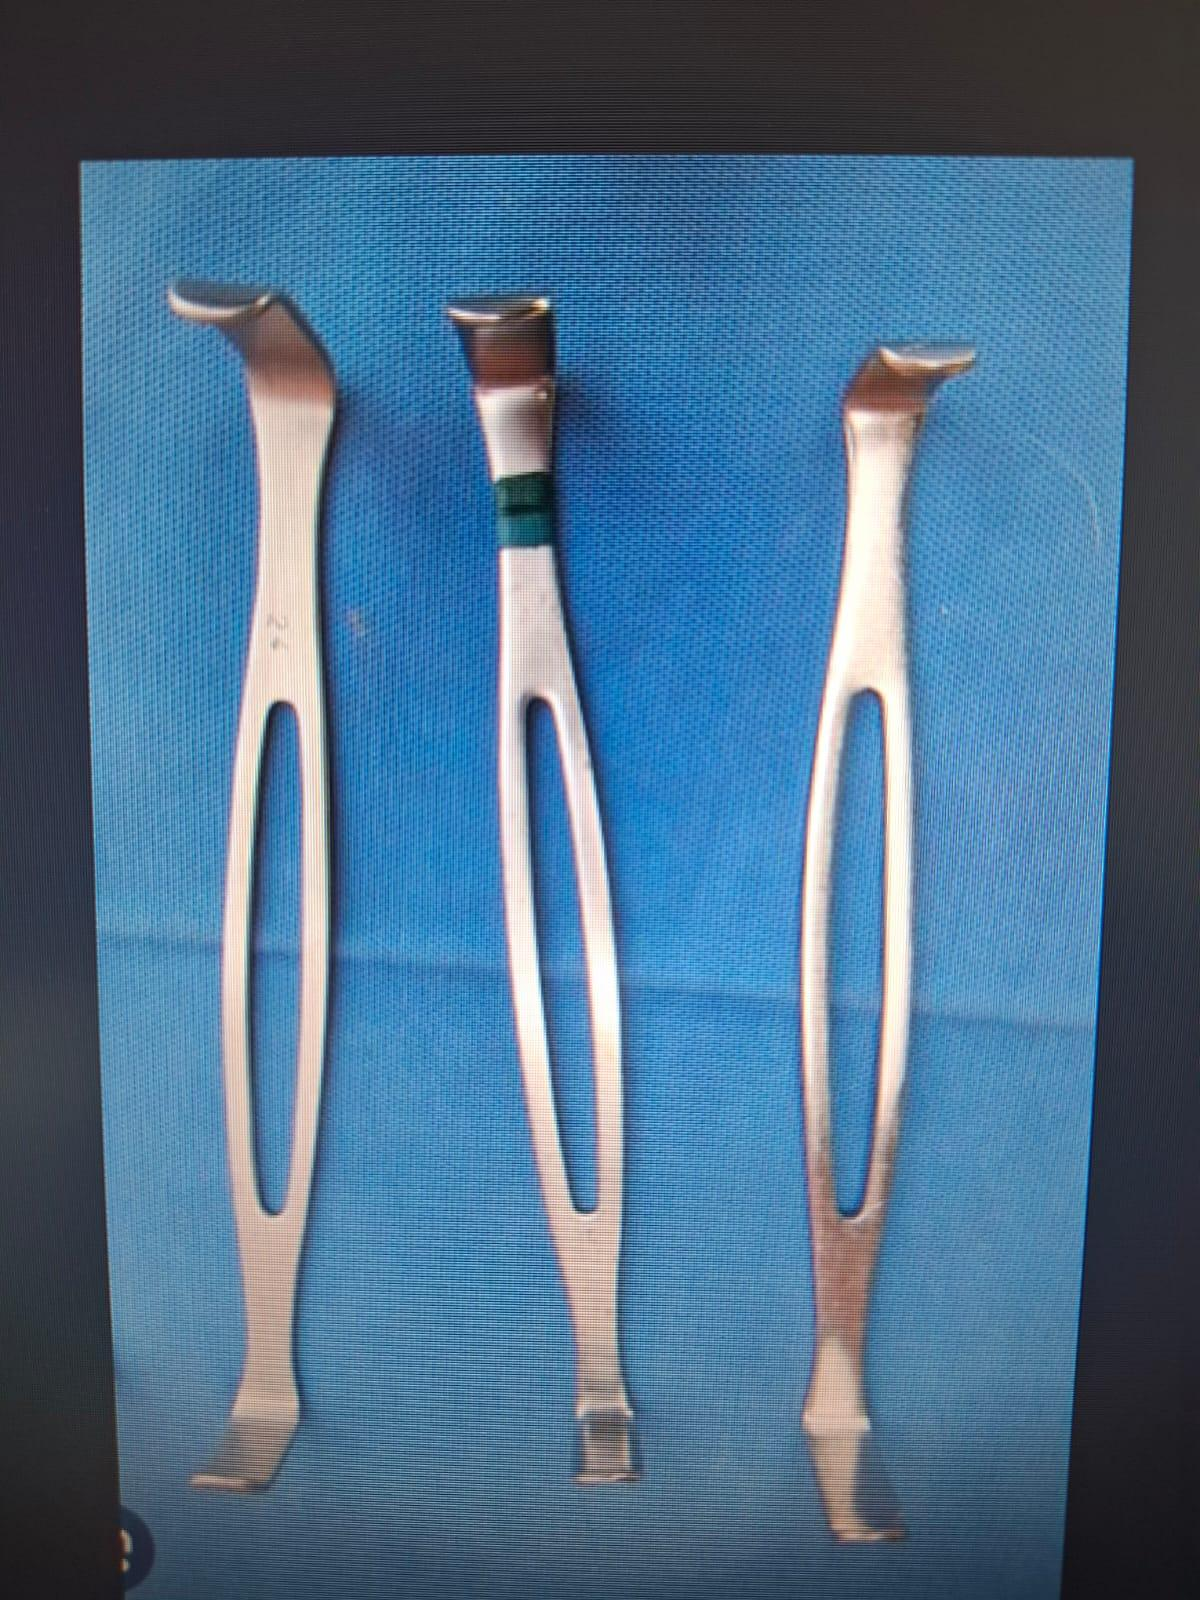Army Navy Retractor: (753, 307, 984, 1557), (155, 254, 366, 1527)
